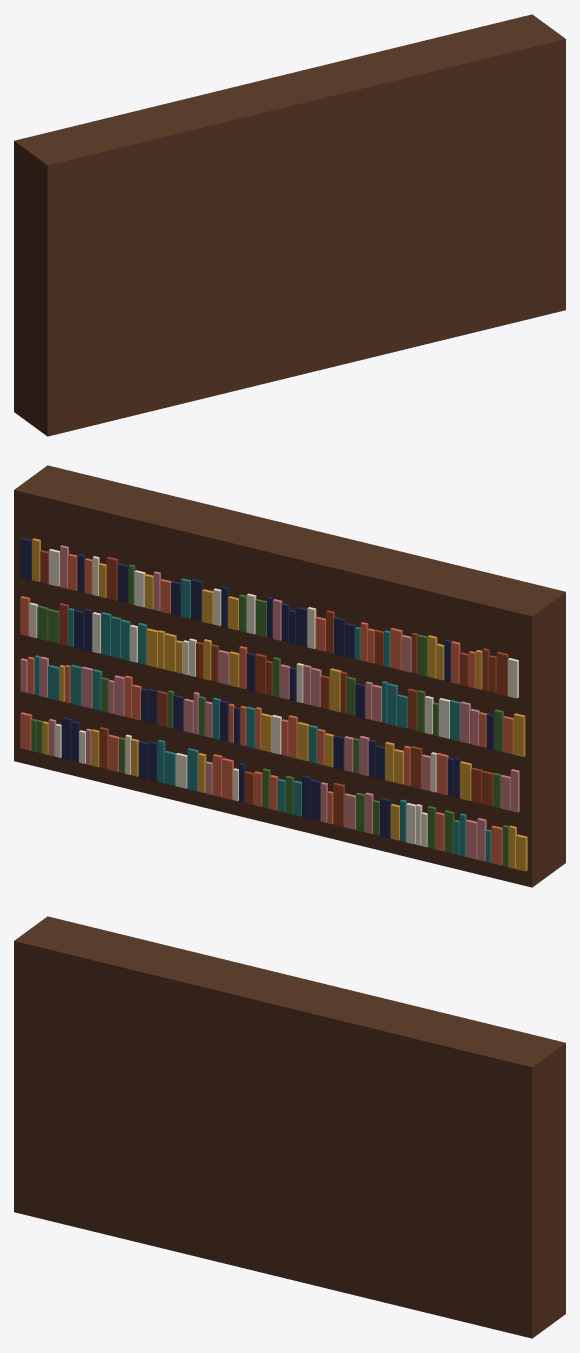
The model's file is science.glb.
3 views of the same model, one above another, from view 1: azimuth 30°, elevation 25°; view 2: azimuth 150°, elevation 25°; view 3: azimuth 330°, elevation 25° (orthographic).
Parts seen in each view (by area): view 1: Box1; view 2: Box1, Box181; view 3: Box1.
Part boxes in pixels (<box>): Box1: <box>14,14,565,436</box>; Box1: <box>14,465,565,887</box>; Box181: <box>513,713,525,756</box>; Box1: <box>14,916,565,1338</box>.
Size of the model in its own units: 4 by 2 by 0.475.
